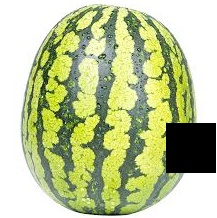watermelon: (23, 4, 195, 217)
